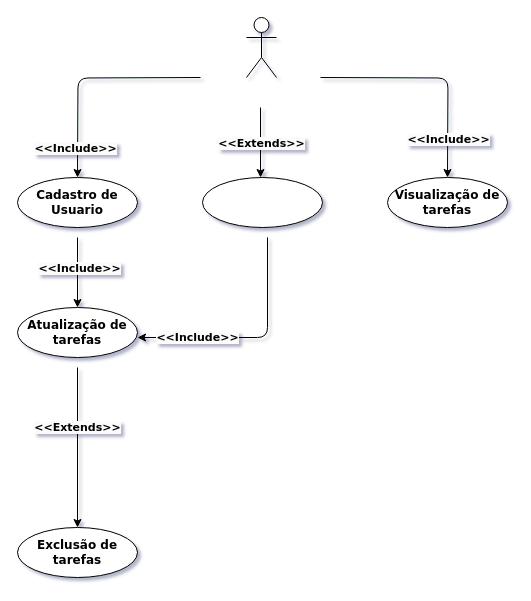
Image size: 531x601. Some labels were removed from this diagram. Each missing label, with the centre of its shape:
"Cadastro de Tarefas" belongs at [262,202].
"usuário" belongs at [261,47].
